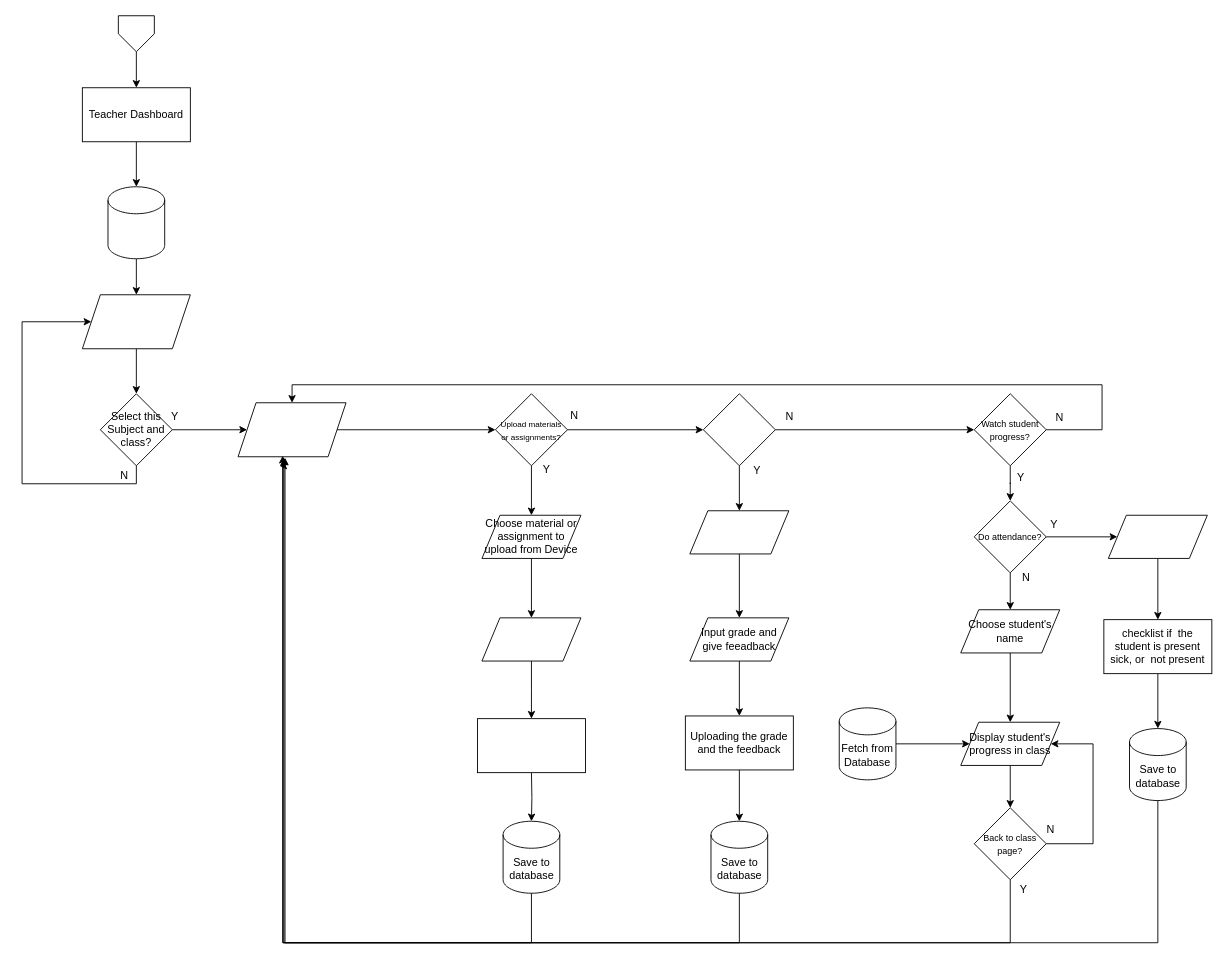
This 1228x966 diagram has some shape labels left out. The shapes that lost their labels are listed below. From the top down, each one's box as (x1, y1, x2, y2) in pixels, then its label:
(107, 186, 165, 259): Fetch Dashboard Data
(81, 294, 190, 349): Display Teacher Dashboard
(237, 402, 346, 457): Display Class Page
(702, 393, 775, 466): Grading and give feedback to assignment?
(689, 510, 789, 554): Choose student's assignment
(1107, 514, 1207, 558): Display list of student's name
(481, 617, 581, 661): give name, instruction material or assignment
(477, 718, 585, 773): Uploading materials or assignment
